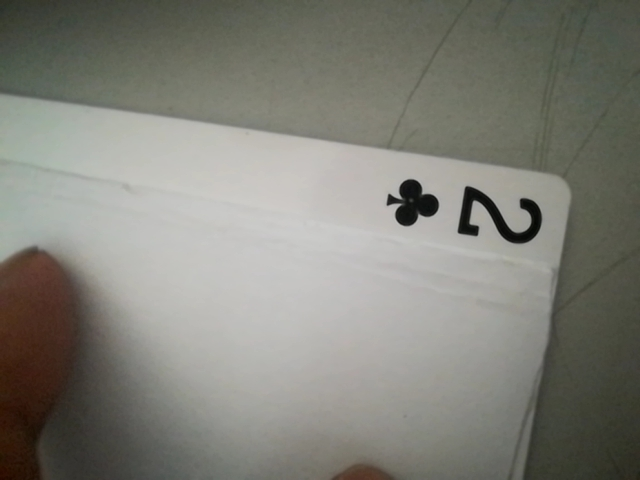mh 2: (374, 170, 555, 253)
